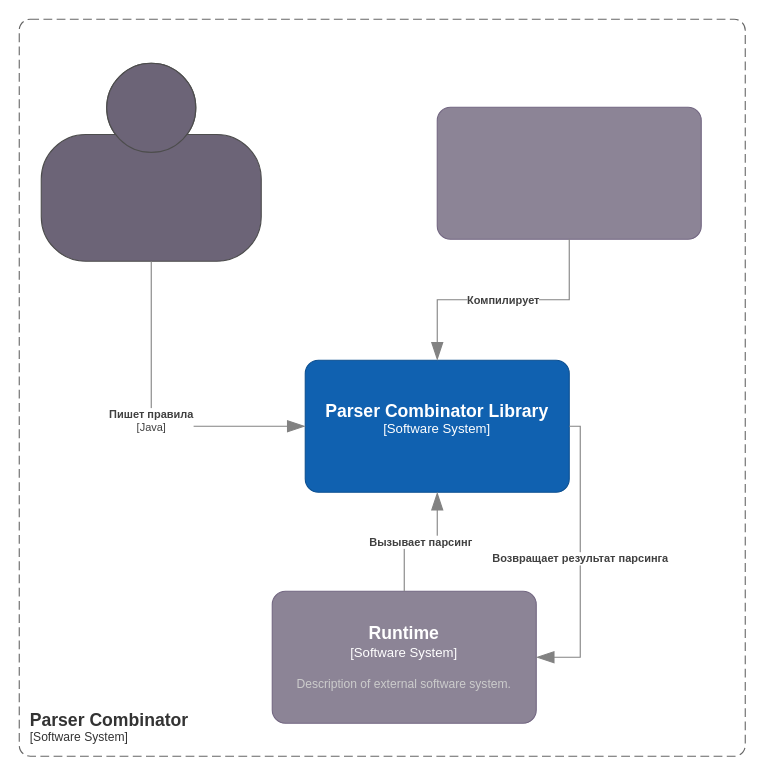
Image size: 765x776. Some labels were removed from this diagram. Here are the shapes that lost their labels. From the top down, the box of each, then its label:
(40, 62, 261, 261): Разработчик [Person]
(436, 106, 701, 239): Система сборки [Software System] Description of external software system.
